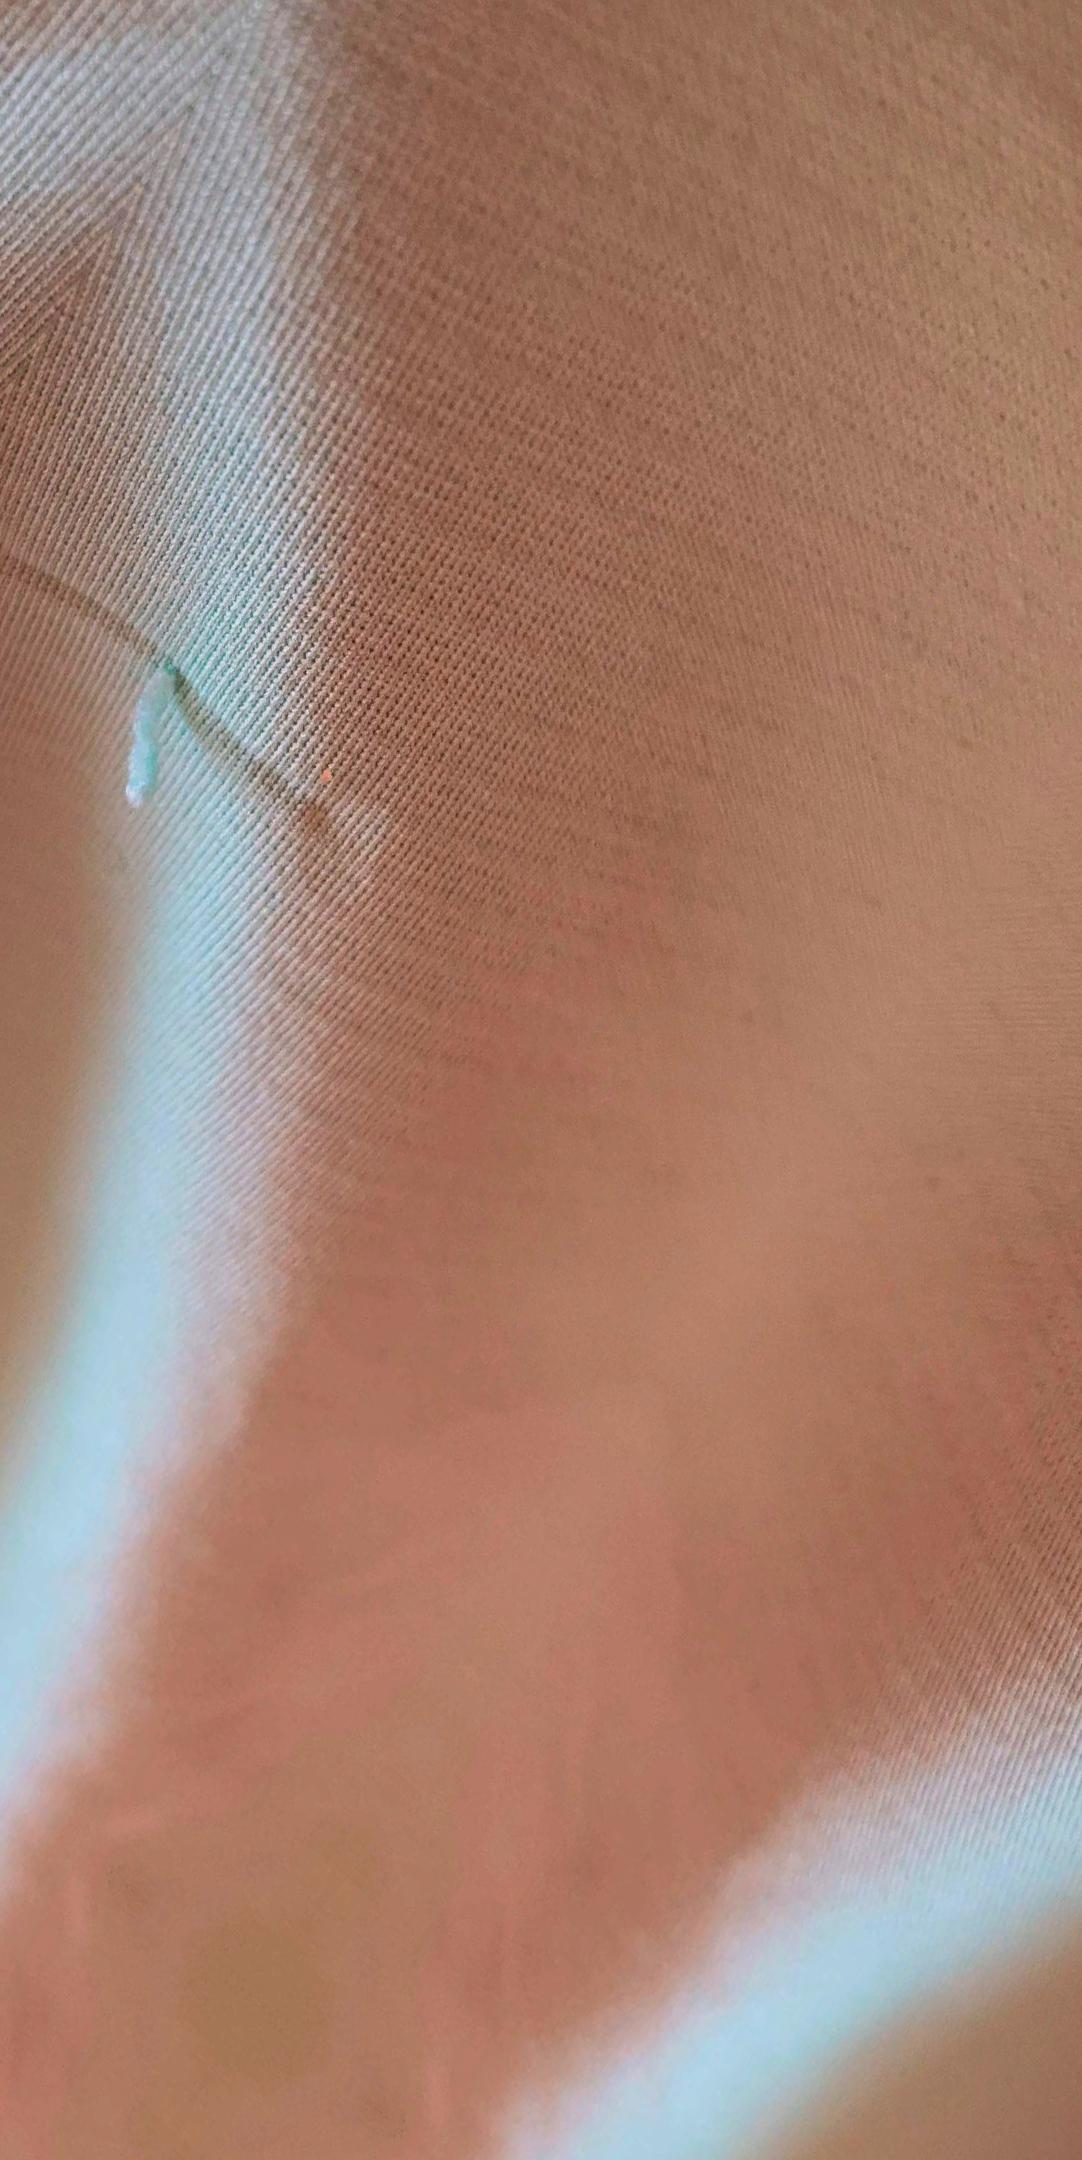snag: (79, 583, 264, 872)
